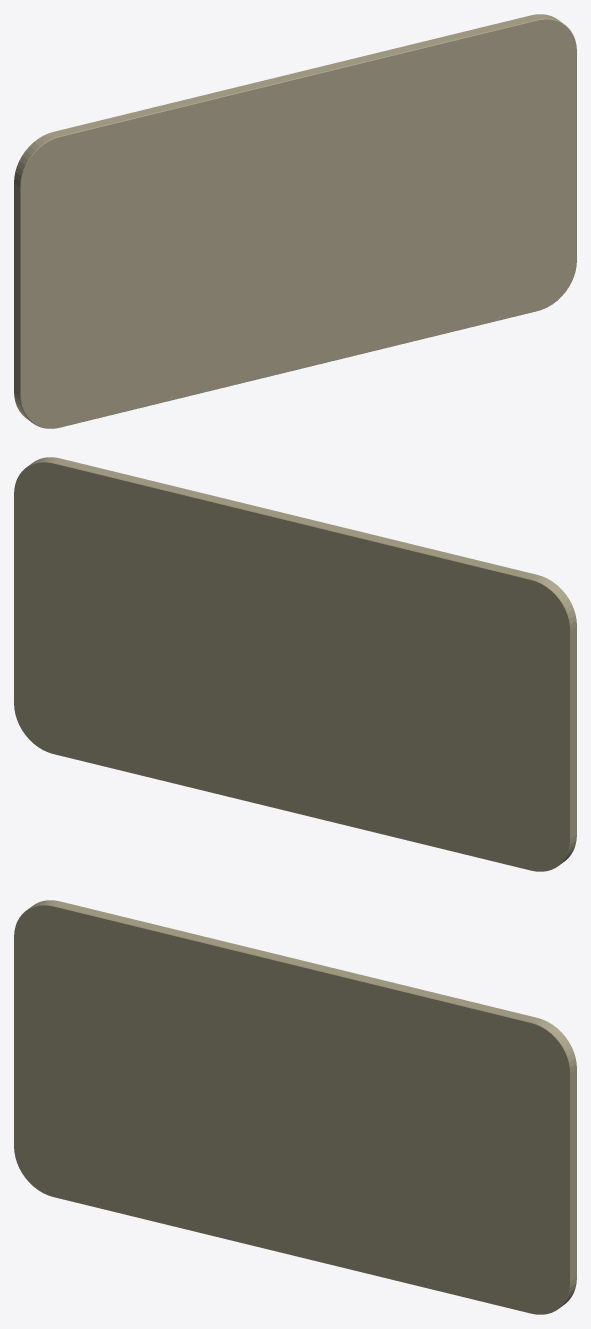
Rendered from table_1.obj.
3 renders of one model, top to bottom at view 1: azimuth 30°, elevation 25°; view 2: azimuth 150°, elevation 25°; view 3: azimuth 330°, elevation 25°, orthographic.
Visible parts, largest first — view 1: Table_1200x600x800mm_ONE_OBJECT.001; view 2: Table_1200x600x800mm_ONE_OBJECT.001; view 3: Table_1200x600x800mm_ONE_OBJECT.001.
Part boxes in pixels (x1,y1,x2,y2): Table_1200x600x800mm_ONE_OBJECT.001: (14, 14, 576, 428); Table_1200x600x800mm_ONE_OBJECT.001: (14, 457, 576, 871); Table_1200x600x800mm_ONE_OBJECT.001: (14, 900, 576, 1314).
Size of the model in its own units: 1.2 by 0.6 by 0.025.
